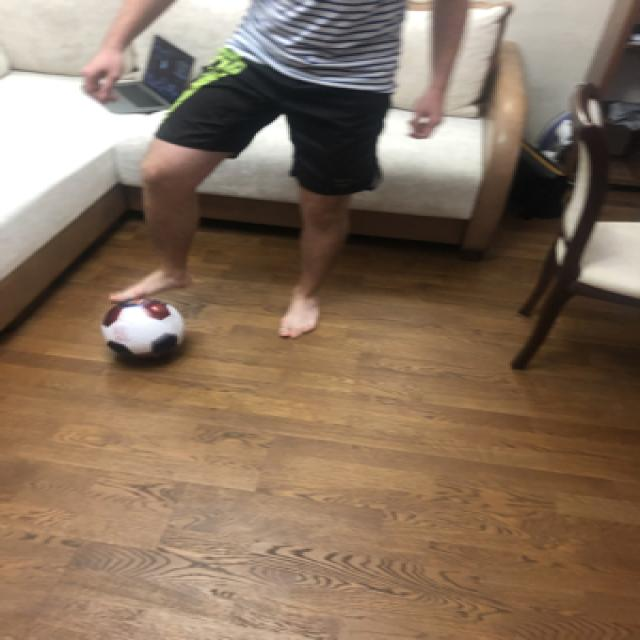soccer_ball: (96, 293, 186, 363)
